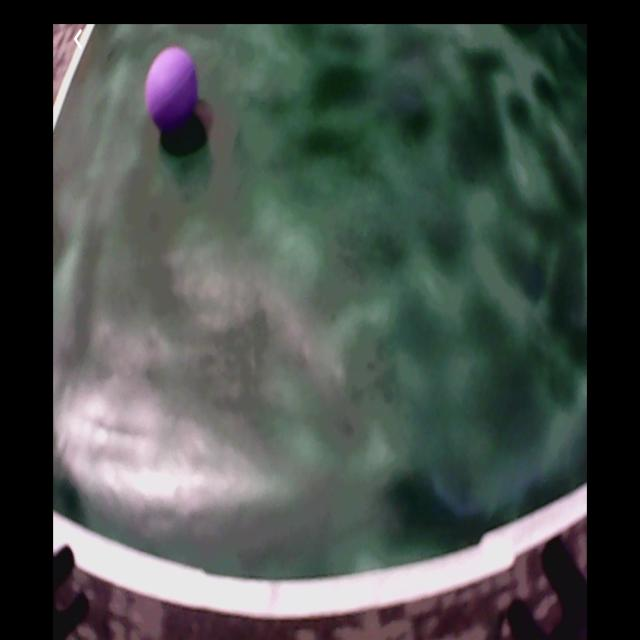ball: (146, 49, 199, 127)
